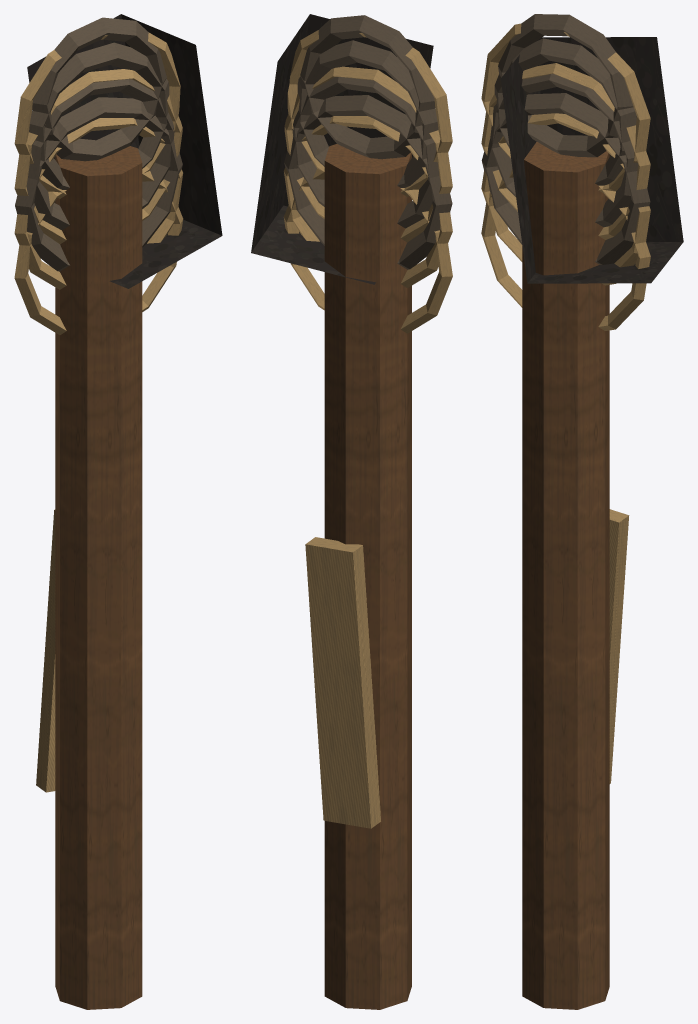
File: pr-009_torch__unlit.obj
3 views of the same model, side by side, from view 1: azimuth 30°, elevation 25°; view 2: azimuth 150°, elevation 25°; view 3: azimuth 330°, elevation 25° (orthographic).
Parts seen in each view (by area): view 1: pr-009_torch__unlit; view 2: pr-009_torch__unlit; view 3: pr-009_torch__unlit.
Part boxes in pixels (x1,y1,x2,y2): pr-009_torch__unlit: (14, 14, 222, 1009); pr-009_torch__unlit: (251, 14, 452, 1009); pr-009_torch__unlit: (481, 14, 683, 1009).
Bounding box in the file's own units: 0.1287 × 0.6346 × 0.0806.
Materials: 4 (4 with a texture image).
